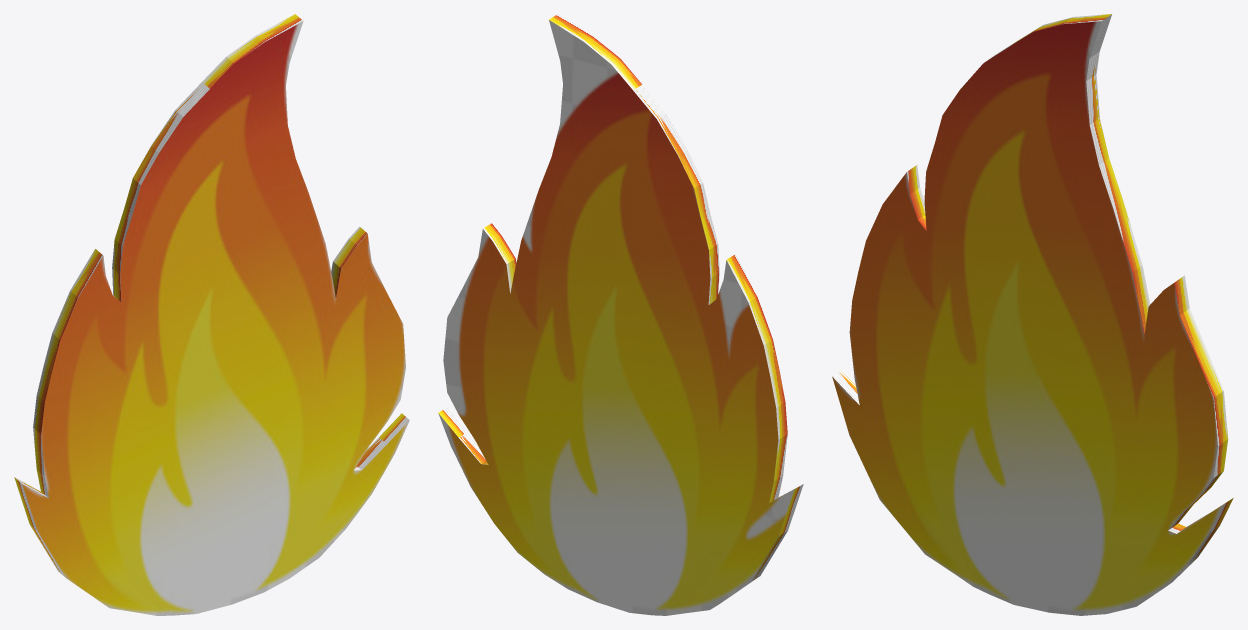
Rendered from fuego solo.FBX.
The picture shows the model from 3 angles, left to right: view 1: azimuth 30°, elevation 25°; view 2: azimuth 150°, elevation 25°; view 3: azimuth 330°, elevation 25°; orthographic projection. The views are drawn at different scales.
Parts seen in each view (by area): view 1: logo fuego; view 2: logo fuego; view 3: logo fuego.
Part boxes in pixels (x1=…): logo fuego: x1=14, y1=14, x2=409, y2=615; logo fuego: x1=438, y1=14, x2=803, y2=615; logo fuego: x1=832, y1=14, x2=1233, y2=615.
Bounding box in the file's own units: 2.46 × 3.6 × 0.2649.
